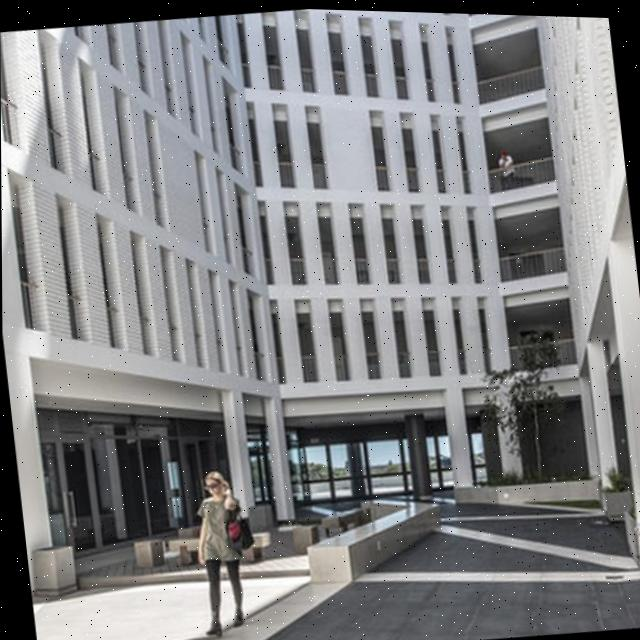building: (0, 0, 640, 561)
